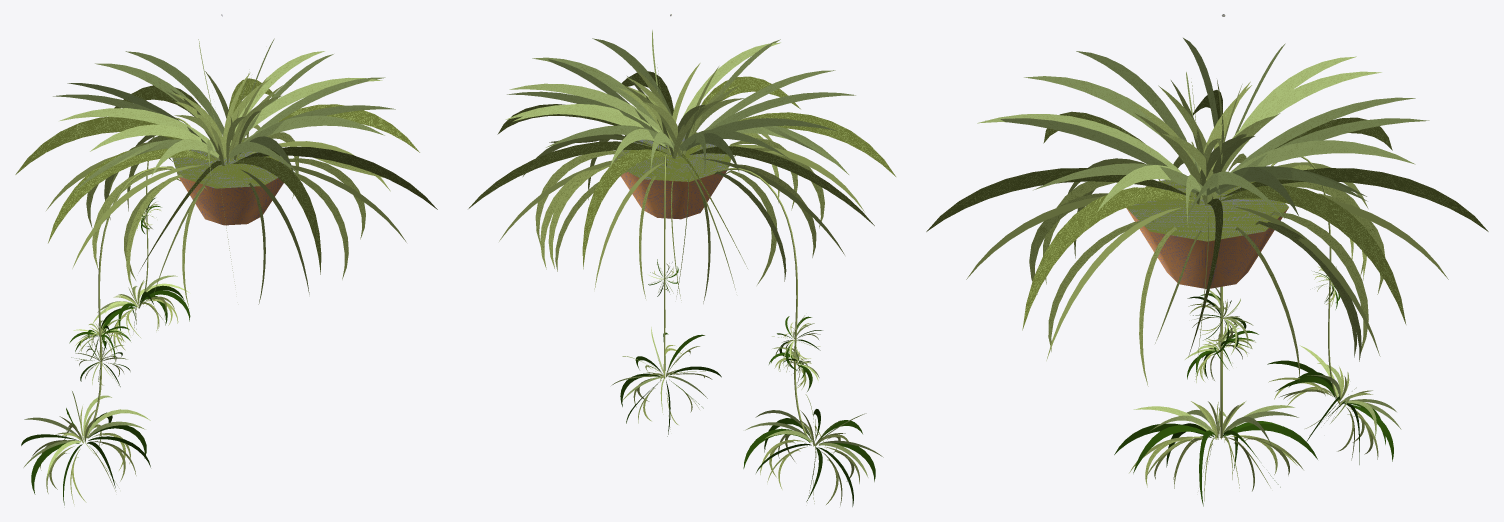
The model's file is Plant_Hanging_Basket_Spider.dae.
3 views of the same model, side by side, from view 1: azimuth 30°, elevation 25°; view 2: azimuth 150°, elevation 25°; view 3: azimuth 270°, elevation 25° (orthographic). The views are drawn at different scales.
Parts seen in each view (by area): view 1: SketchUp (×24), FlowerPot_2 (×2), Leaves3_1 (×4), Composant_1; view 2: SketchUp (×29), FlowerPot_2 (×2), Leaves3_1 (×4), Composant_1; view 3: SketchUp (×23), Leaves3_1 (×8), FlowerPot_2 (×2).
Boxes of the visible parts, box(x1,y1,x2,y2) form: SketchUp (×24): box(15, 51, 419, 294); FlowerPot_2 (×2): box(172, 137, 291, 225); Leaves3_1 (×4): box(67, 83, 437, 242); Composant_1: box(86, 167, 173, 437); SketchUp (×29): box(468, 38, 895, 284); FlowerPot_2 (×2): box(615, 132, 730, 219); Leaves3_1 (×4): box(582, 42, 780, 289); Composant_1: box(718, 168, 810, 442); SketchUp (×23): box(926, 51, 1429, 386); Leaves3_1 (×8): box(985, 71, 1488, 360); FlowerPot_2 (×2): box(1126, 176, 1288, 288).
Bounding box in the file's own units: 42.41 × 41.4 × 46.97.
